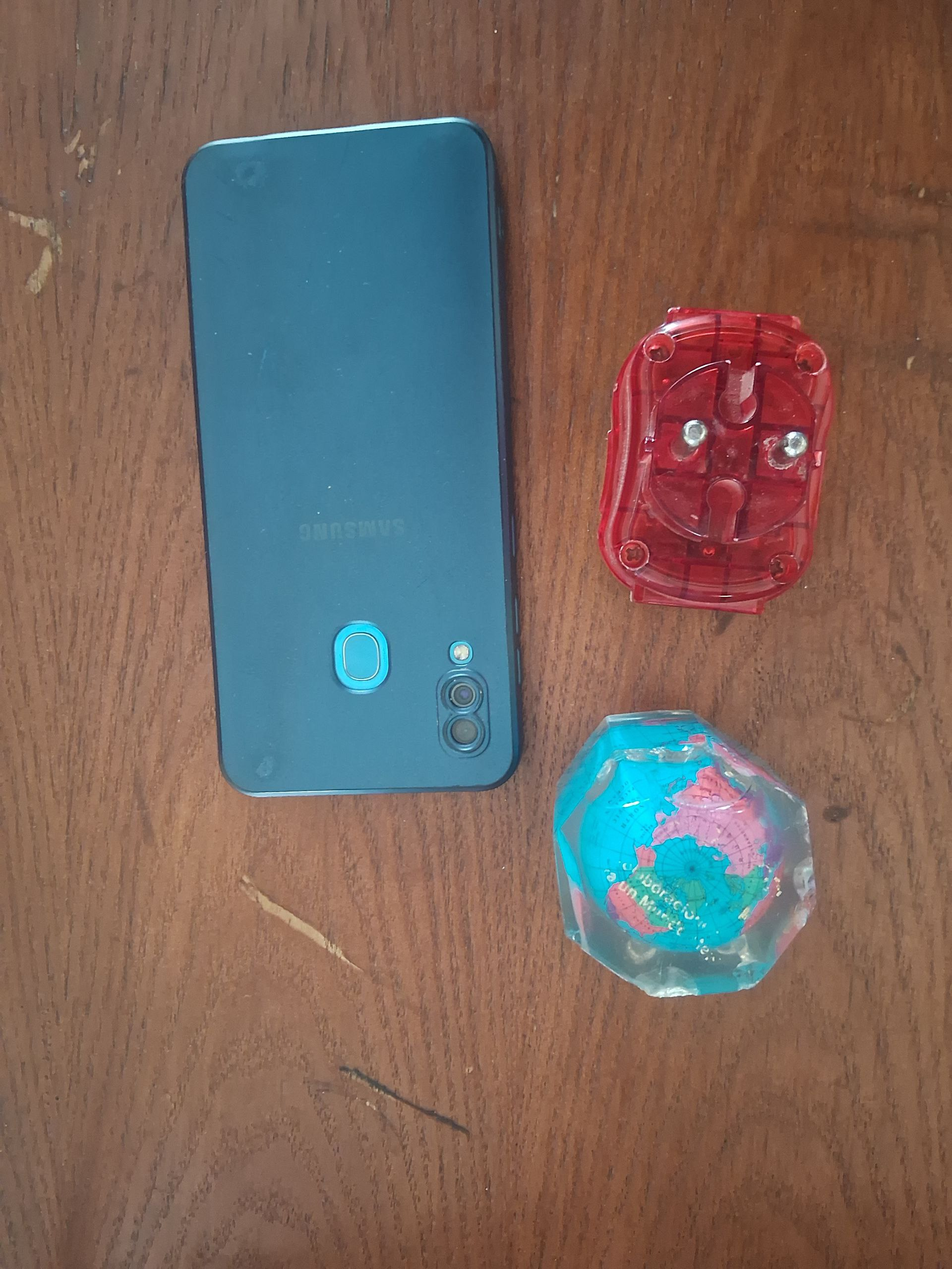Multi_adapter: (589, 291, 846, 629)
Smart_phone: (168, 104, 535, 803)
world_globe: (545, 702, 827, 1008)
